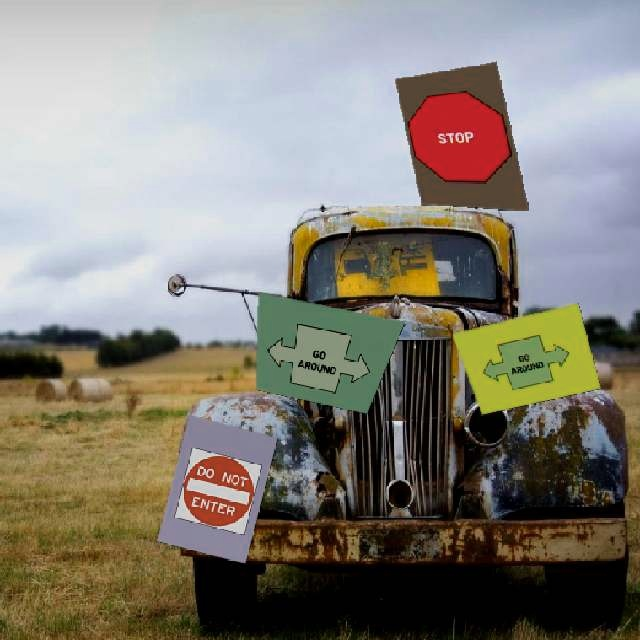DO_NOT_ENTER: (173, 446, 261, 534)
GO_AROUND: (254, 309, 380, 404), (474, 325, 574, 398)
STOP: (401, 86, 517, 193)
